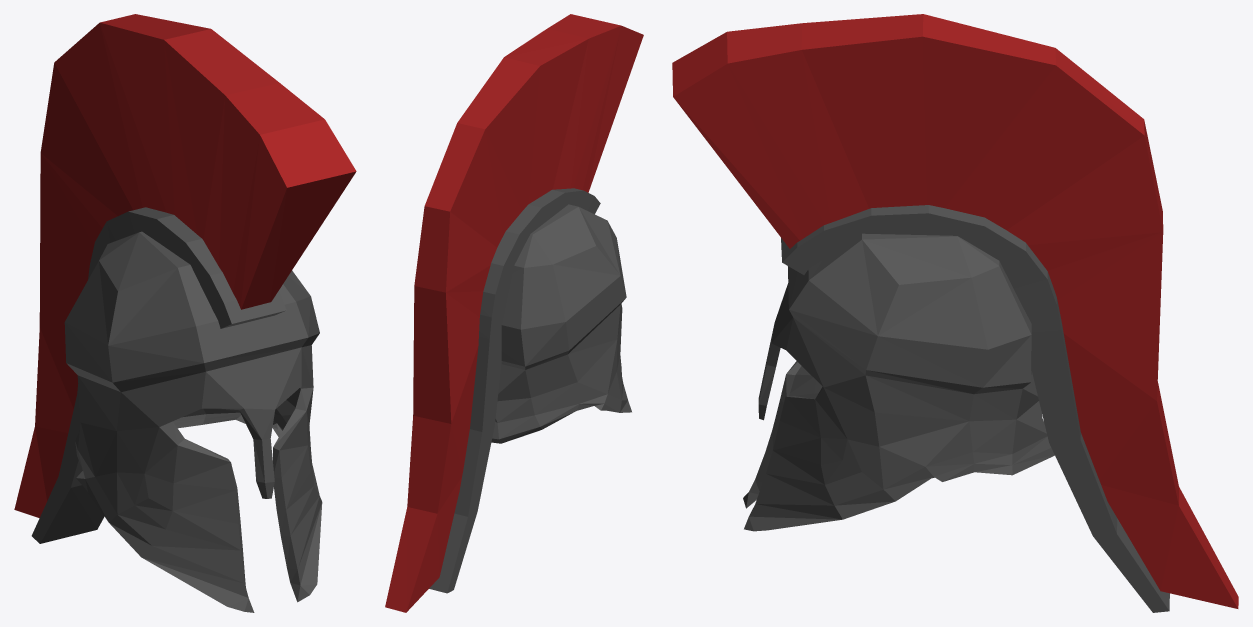
Rendered from SM_helmet_greek_01.fbx.
The picture shows the model from 3 angles, left to right: view 1: azimuth 30°, elevation 25°; view 2: azimuth 150°, elevation 25°; view 3: azimuth 270°, elevation 25°; orthographic projection. The views are drawn at different scales.
Visible parts, largest first — view 1: Object198; view 2: Object198; view 3: Object198.
Part boxes in pixels (box(x1,y1,x2,y2)): Object198: box(14, 14, 356, 612); Object198: box(385, 14, 643, 612); Object198: box(672, 14, 1238, 612).
Bounding box in the file's own units: 9.65 × 25.96 × 23.08.
